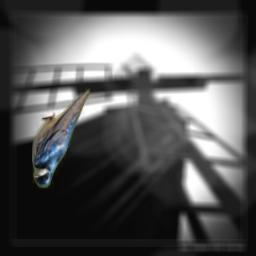Swallow: (32, 87, 90, 190)
